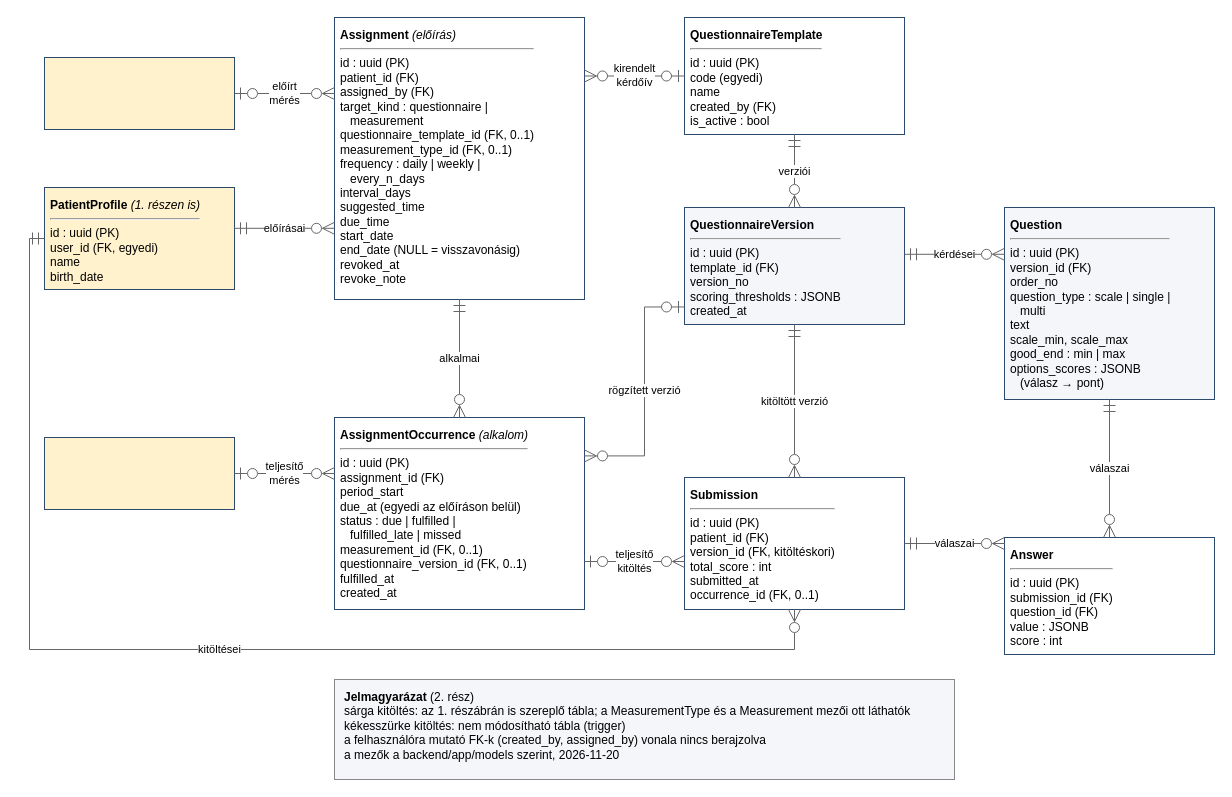
Some shapes in this 1232 by 797 pixel diagram are drawn without their labels. Here are the shapes that lost their labels. From the top down, the centre of each, then its label:
the point at 139,93: MeasurementType (1. rész) id : uuid (PK) (a mezői: 1. rész)
the point at 139,473: Measurement (1. rész) id : uuid (PK) (a mezői: 1. rész)
